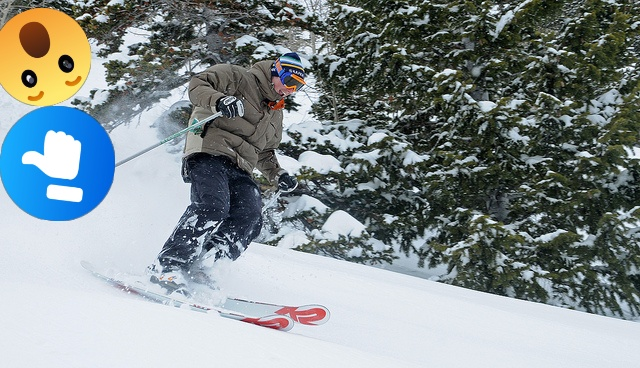like: (0, 106, 115, 221)
wow: (0, 8, 91, 106)
